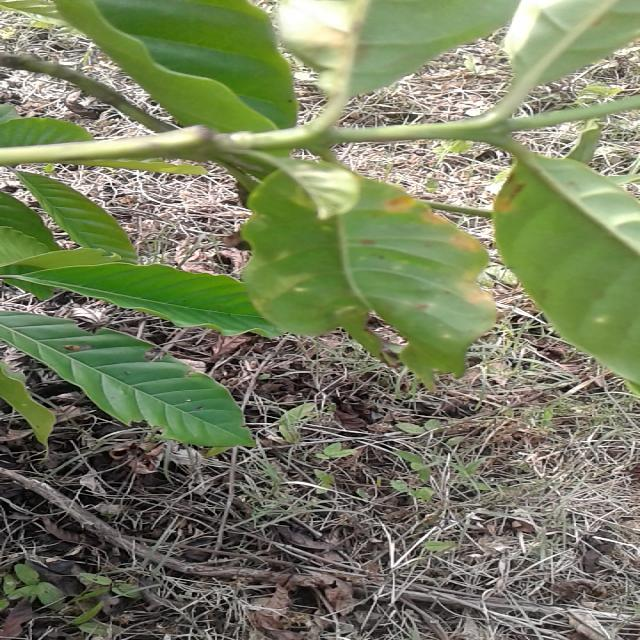Enfermedad-Roya: (240, 148, 498, 383)
